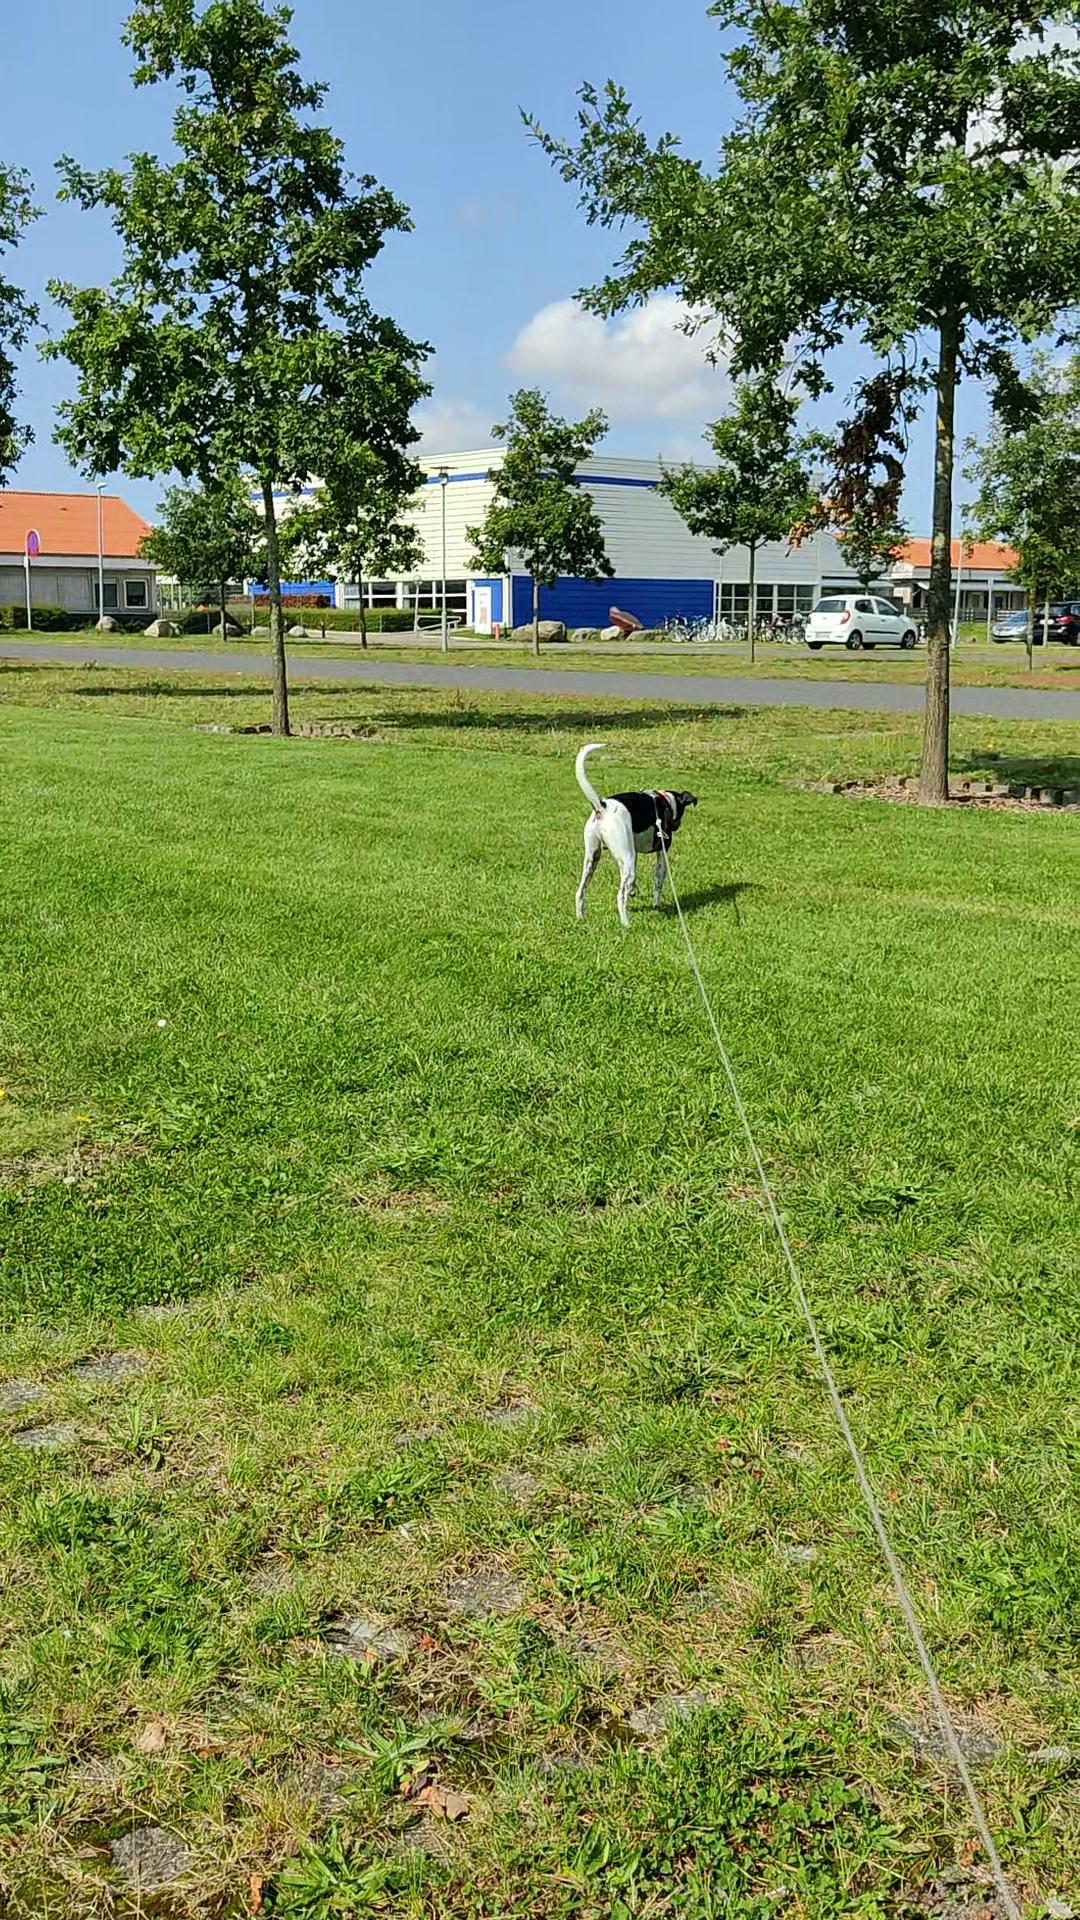Dog: (560, 736, 702, 928)
